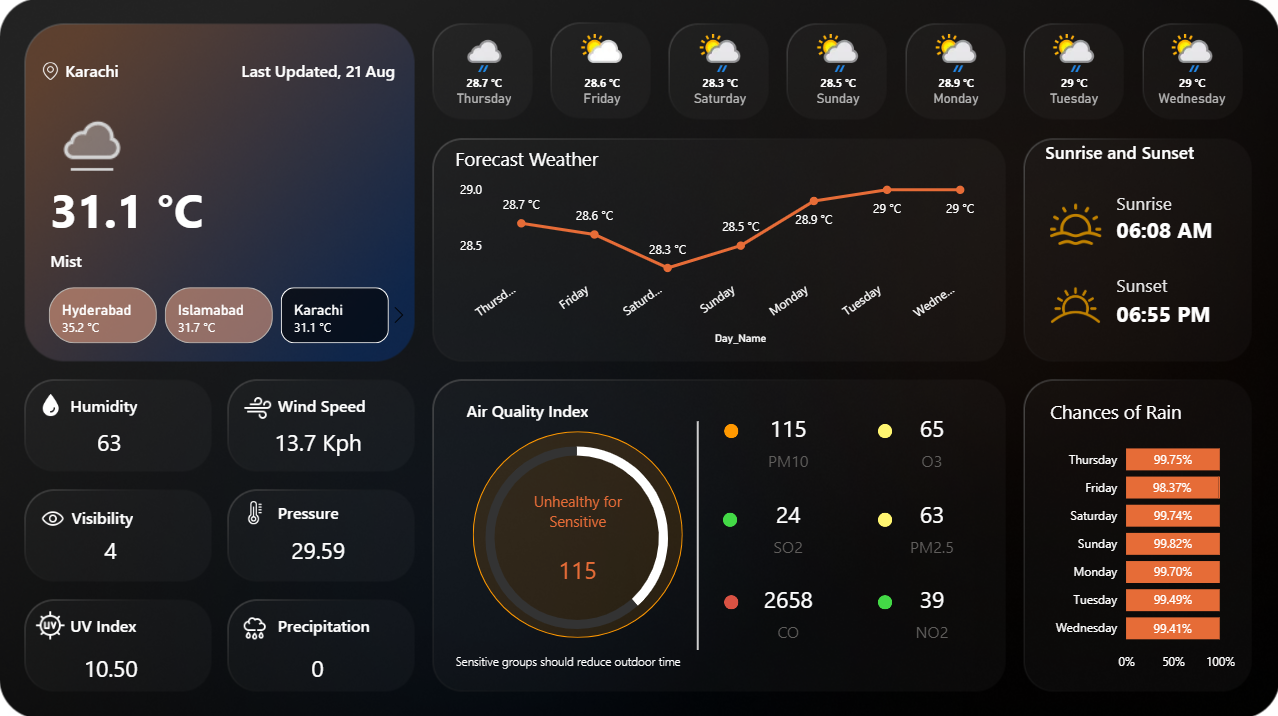

The dashboard page shown, as its layout file describes it:
{"tool":"powerbi","page":{"name":"WeatherAPI","canvas":[1280,720],"ordinal":0},"visuals":[{"type":"shape","box":[473.3,431.7,210,206.7],"z":500},{"type":"advancedSlicerVisual","fields":{"Values":["Locations.location.name"]},"box":[24.9,282.2,390,66.4],"z":1000},{"type":"shape","box":[51.4,177.1,175.7,61.4],"z":2000},{"type":"shape","box":[51.4,238.6,337.1,42.9],"z":3000},{"type":"shape","box":[65.7,48.6,161.4,42.9],"z":4000},{"type":"shape","box":[205.7,48.6,190,42.9],"z":5000},{"type":"image","box":[35.7,57.1,30,27.1],"z":6000},{"type":"cardVisual","fields":{"Data":["Min(Current.current.condition.icon)"]},"box":[35.7,84.3,111.4,92.9],"z":7000},{"type":"image","box":[31.4,388.6,40,32.9],"z":8000},{"type":"image","box":[35.7,494.3,35.7,50],"z":9000},{"type":"image","box":[31.4,604.3,40,42.9],"z":10000},{"type":"image","box":[238.6,388.6,40,38.6],"z":11000},{"type":"image","box":[232.9,610,45.7,37.1],"z":12000},{"type":"image","box":[238.6,495.7,34.3,32.9],"z":13000},{"type":"shape","box":[71.4,384.3,161.4,42.9],"z":14000},{"type":"shape","box":[278.6,384.3,161.4,42.9],"z":15000},{"type":"shape","box":[72.9,495.7,161.4,42.9],"z":16000},{"type":"shape","box":[278.6,491.4,161.4,42.9],"z":17000},{"type":"shape","box":[278.6,604.3,161.4,42.9],"z":18000},{"type":"shape","box":[71.4,604.3,161.4,42.9],"z":19000},{"type":"card","fields":{"Values":["Sum(Current.current.humidity)"]},"box":[51.4,421.4,118.6,45.7],"z":20000},{"type":"card","fields":{"Values":["Sum(Current.current.pressure_in)"]},"box":[260,528.6,118.6,45.7],"z":21000},{"type":"card","fields":{"Values":["Sum(Current.current.precip_in)"]},"box":[280,647.1,77.1,45.7],"z":22000},{"type":"card","fields":{"Values":["Sum(Current.current.vis_km)"]},"box":[52.9,528.6,118.6,45.7],"z":23000},{"type":"card","fields":{"Values":["Sum(Current.current.uv)"]},"box":[52.9,647.1,118.6,45.7],"z":24000},{"type":"card","fields":{"Values":["_Measures.Wind_Speed"]},"box":[260,421.4,118.6,45.7],"z":25000},{"type":"advancedSlicerVisual","fields":{"Values":["Forecast_Day.Day_Name"]},"box":[425,9,830,122],"z":26000},{"type":"lineChart","title":"Forecast Weather","fields":{"Y":["Sum(Forcast_Day.forecast.forecastday.day.avgtemp_c)"],"Category":["Forecast_Day.Day_Name"]},"box":[451.5,146.1,544.4,202.5],"z":27000},{"type":"shape","box":[1045.7,131.1,161,41.5],"z":28000},{"type":"shape","box":[1117,172.6,129.5,61.4],"z":29000},{"type":"shape","box":[1117,282.2,129.5,61.4],"z":30000},{"type":"shape","box":[1117,199.2,129.5,61.4],"z":31000},{"type":"shape","box":[1117,260.6,129.5,49.8],"z":32000},{"type":"image","box":[1033,268,88,75],"z":33000},{"type":"image","box":[1046,188,61,73],"z":34000},{"type":"hundredPercentStackedBarChart","title":"Chances of Rain","fields":{"Y":["Sum(Forcast_Hour.forecast.forecastday.hour.chance_of_rain)","_Measures.Left_Value_Rain"],"Category":["Forecast_Day.Day_Name"]},"box":[1046.1,399.3,195,281],"z":35000},{"type":"shape","box":[467.9,388.6,161.3,43],"z":36000},{"type":"card","fields":{"Values":["Sum(Current.current.air_quality.o3)"]},"box":[883,400,101.2,81.3],"z":37000},{"type":"card","fields":{"Values":["Sum(Current.current.air_quality.pm2_5)"]},"box":[883,486.3,101.2,81.3],"z":38000},{"type":"card","fields":{"Values":["Sum(Current.current.air_quality.no2)"]},"box":[883,571,101.2,81.3],"z":39000},{"type":"card","fields":{"Values":["Sum(Current.current.air_quality.pm10)"]},"box":[738.6,400,101.2,81.3],"z":40000},{"type":"card","fields":{"Values":["Sum(Current.current.air_quality.so2)"]},"box":[738.6,486.3,101.2,81.3],"z":41000},{"type":"card","fields":{"Values":["Sum(Current.current.air_quality.co)"]},"box":[738.6,571,101.2,81.3],"z":42000},{"type":"shape","box":[724.6,423.8,14.6,14.6],"z":43000},{"type":"shape","box":[723.8,512.3,14.6,14.6],"z":44000},{"type":"shape","box":[724.6,595.4,14.6,14.6],"z":45000},{"type":"shape","box":[878.5,423.8,14.6,14.6],"z":46000},{"type":"shape","box":[878.5,512.3,14.6,14.6],"z":47000},{"type":"shape","box":[878.5,595.4,14.6,14.6],"z":48000},{"type":"shape","box":[658.8,421.2,80,228.8],"z":49000},{"type":"card","fields":{"Values":["Sum(Current.current.air_quality.pm10)"]},"box":[508.3,491.7,140,120],"z":50000},{"type":"donutChart","fields":{"Y":["Sum(Current.current.air_quality.pm10)","_Measures.Left_Value_PM10"]},"box":[383.3,418.3,388.3,238.3],"z":51000},{"type":"shape","box":[440,640,258.3,41.7],"z":51001}]}

Visuals, with their boxes in screenshot pixels (x1, y1, x2, y2), scaled from the page's 1280x720 canvas onto the 1278x716 screenshot:
shape: Rect(473, 429, 682, 635)
advancedSlicerVisual - Locations.location.name: Rect(25, 281, 414, 347)
shape: Rect(51, 176, 227, 237)
shape: Rect(51, 237, 388, 280)
shape: Rect(66, 48, 227, 91)
shape: Rect(205, 48, 395, 91)
image: Rect(36, 57, 66, 84)
cardVisual - Min(Current.current.condition.icon): Rect(36, 84, 147, 176)
image: Rect(31, 386, 71, 419)
image: Rect(36, 492, 71, 541)
image: Rect(31, 601, 71, 644)
image: Rect(238, 386, 278, 425)
image: Rect(233, 607, 278, 644)
image: Rect(238, 493, 272, 526)
shape: Rect(71, 382, 232, 425)
shape: Rect(278, 382, 439, 425)
shape: Rect(73, 493, 234, 536)
shape: Rect(278, 489, 439, 531)
shape: Rect(278, 601, 439, 644)
shape: Rect(71, 601, 232, 644)
card - Sum(Current.current.humidity): Rect(51, 419, 170, 465)
card - Sum(Current.current.pressure_in): Rect(260, 526, 378, 571)
card - Sum(Current.current.precip_in): Rect(280, 644, 357, 689)
card - Sum(Current.current.vis_km): Rect(53, 526, 171, 571)
card - Sum(Current.current.uv): Rect(53, 644, 171, 689)
card - _Measures.Wind_Speed: Rect(260, 419, 378, 465)
advancedSlicerVisual - Forecast_Day.Day_Name: Rect(424, 9, 1253, 130)
"Forecast Weather" lineChart: Rect(451, 145, 994, 347)
shape: Rect(1044, 130, 1205, 172)
shape: Rect(1115, 172, 1245, 233)
shape: Rect(1115, 281, 1245, 342)
shape: Rect(1115, 198, 1245, 259)
shape: Rect(1115, 259, 1245, 309)
image: Rect(1031, 267, 1119, 341)
image: Rect(1044, 187, 1105, 260)
"Chances of Rain" hundredPercentStackedBarChart: Rect(1044, 397, 1239, 677)
shape: Rect(467, 386, 628, 429)
card - Sum(Current.current.air_quality.o3): Rect(882, 398, 983, 479)
card - Sum(Current.current.air_quality.pm2_5): Rect(882, 484, 983, 564)
card - Sum(Current.current.air_quality.no2): Rect(882, 568, 983, 649)
card - Sum(Current.current.air_quality.pm10): Rect(737, 398, 838, 479)
card - Sum(Current.current.air_quality.so2): Rect(737, 484, 838, 564)
card - Sum(Current.current.air_quality.co): Rect(737, 568, 838, 649)
shape: Rect(723, 421, 738, 436)
shape: Rect(723, 509, 737, 524)
shape: Rect(723, 592, 738, 607)
shape: Rect(877, 421, 892, 436)
shape: Rect(877, 509, 892, 524)
shape: Rect(877, 592, 892, 607)
shape: Rect(658, 419, 738, 646)
card - Sum(Current.current.air_quality.pm10): Rect(508, 489, 647, 608)
donutChart - Sum(Current.current.air_quality.pm10) x _Measures.Left_Value_PM10: Rect(383, 416, 770, 653)
shape: Rect(439, 636, 697, 678)
